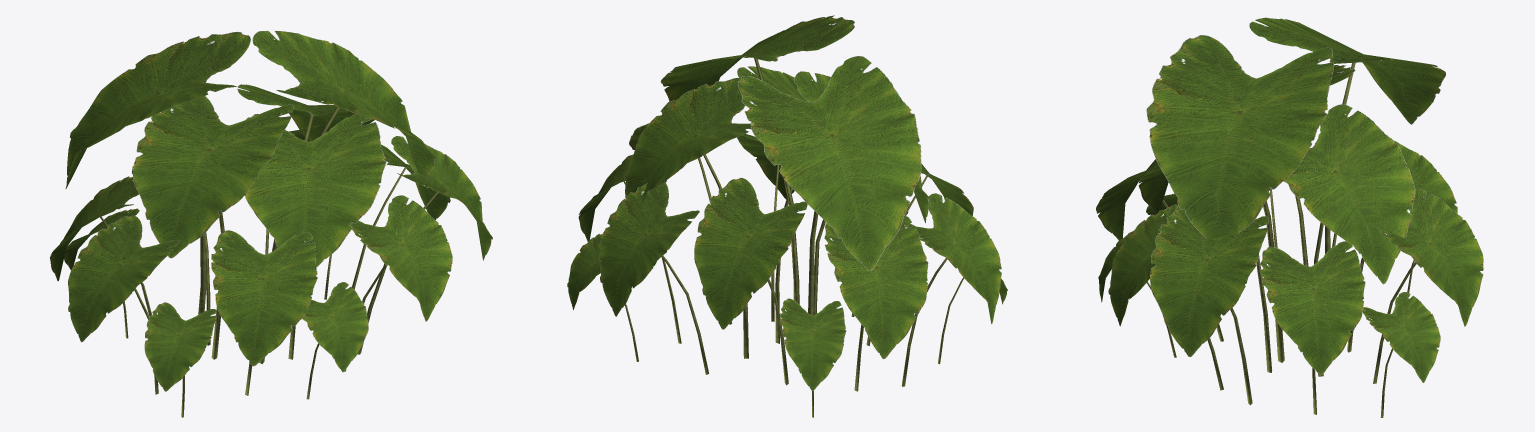
Rendered from tree7.glb.
The picture shows the model from 3 angles, left to right: view 1: azimuth 30°, elevation 25°; view 2: azimuth 150°, elevation 25°; view 3: azimuth 270°, elevation 25°; orthographic projection. The views are drawn at different scales.
Parts seen in each view (by area): view 1: Object_121; view 2: Object_121; view 3: Object_121.
Boxes of the visible parts, x1,y1,x2,y2 form: Object_121: (50,30,492,417); Object_121: (567,15,1007,417); Object_121: (1096,17,1483,417).
Bounding box in the file's own units: 1.88 × 1.33 × 1.62.
Materials: 1 (1 with a texture image).
